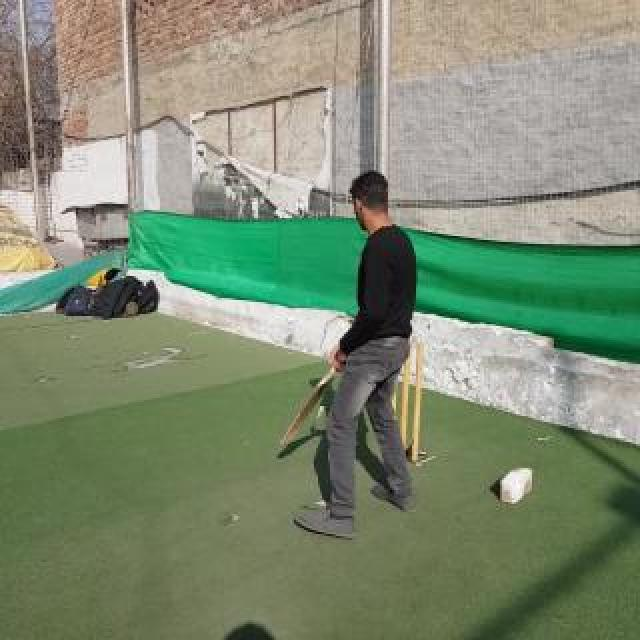ball: (287, 315, 295, 325)
bat: (279, 359, 341, 445)
